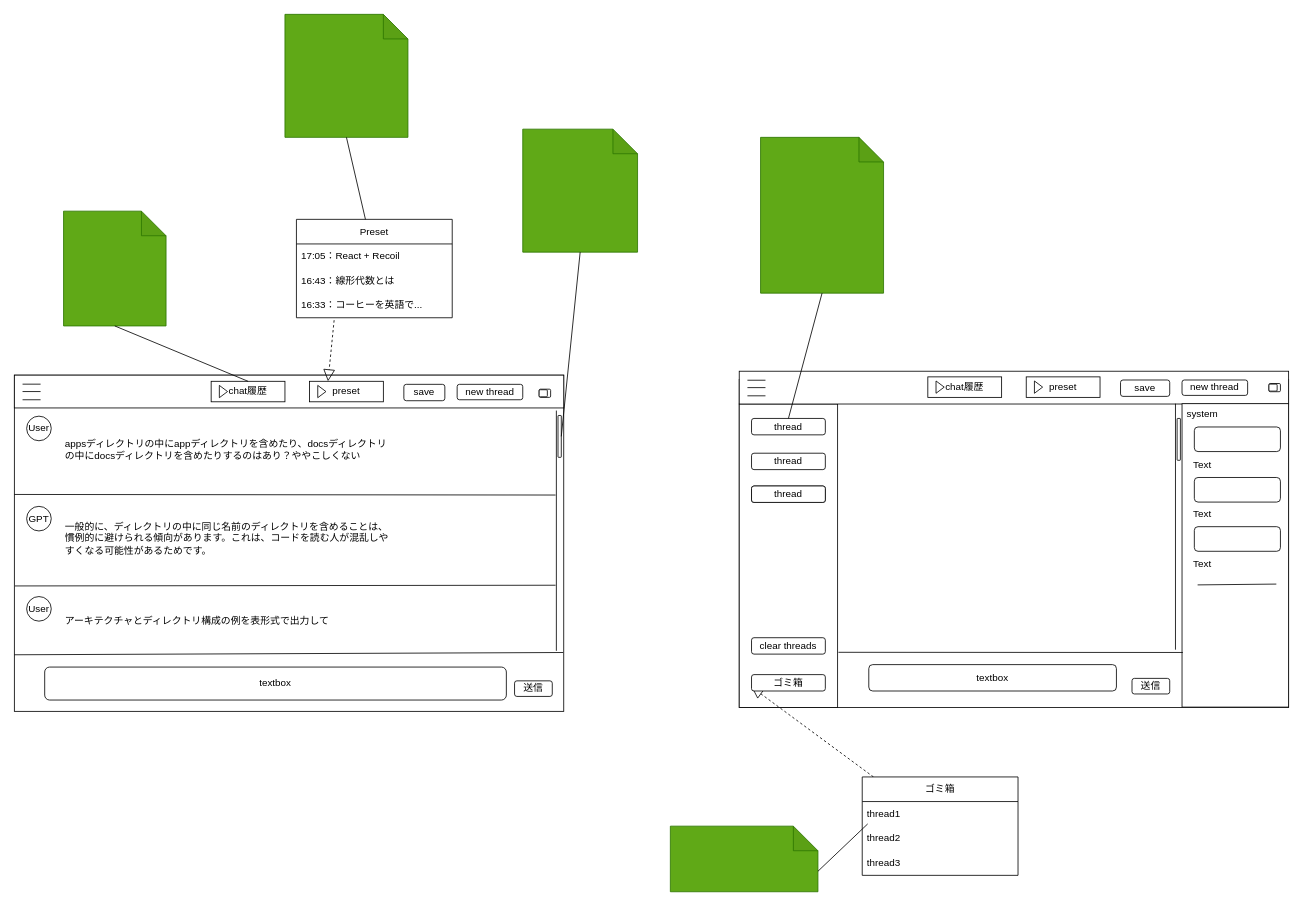
Some shapes in this 1303 by 906 pixel diagram are drawn without their labels. The shapes that lost their labels are listed below. From the top down, each one's centre as x and y in pixels, then its label:
At [346,75]: "ここはゴミ箱の表示と一緒。threadsList的な".
At [580,190]: "このメッセージ表示部部はスライドできるようになってる".
At [822,215]: "Threadボタンを押すと、Postリクエストして、Chat達を取得する".
At [114,268]: "モーダルで開く。notionの履歴みたいに".
At [744,858]: "notionのゴミ箱みたいに？".
